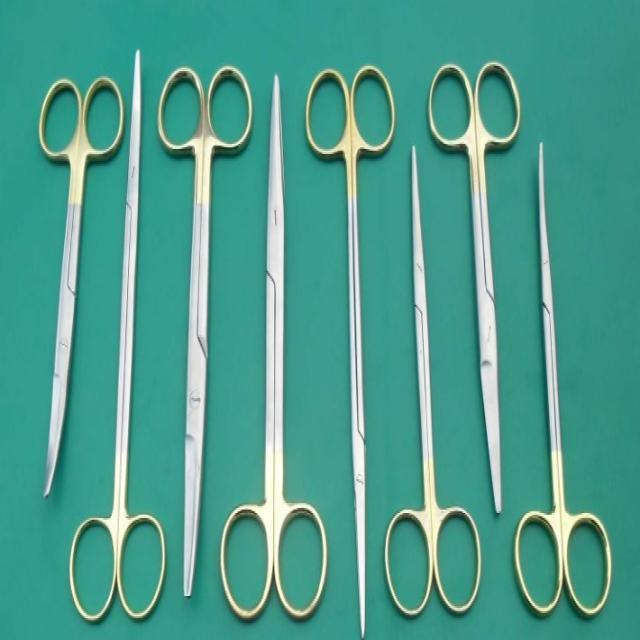Curved Mayo: (25, 46, 124, 503)
Metzenbaum Sciccors: (68, 47, 170, 633), (304, 64, 392, 640)
